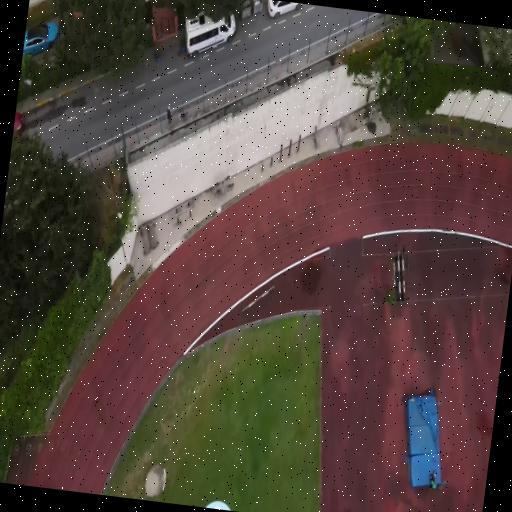bus: (185, 14, 235, 57)
car: (23, 22, 59, 55), (268, 0, 302, 18), (13, 113, 24, 134)
